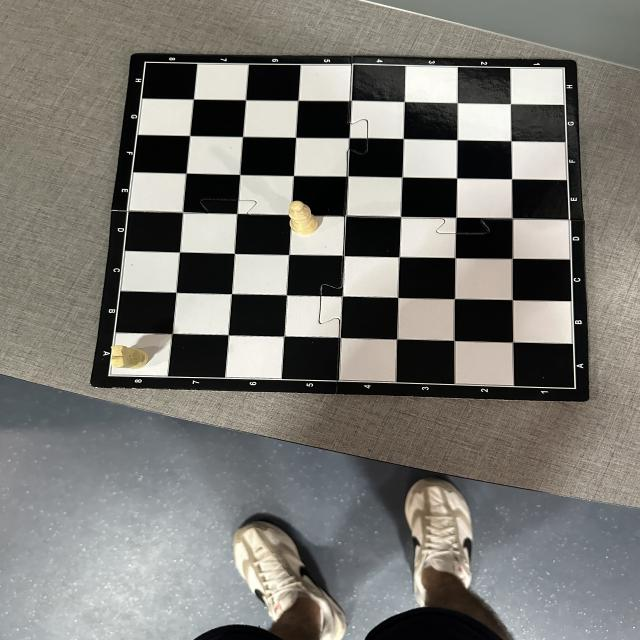White-Bishop: (289, 200, 318, 235)
White-Knight: (112, 344, 150, 368)
